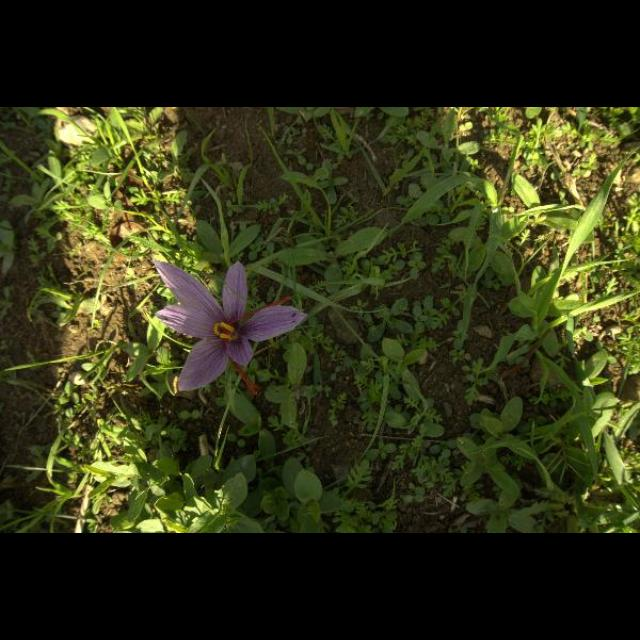flower: (153, 260, 309, 392)
